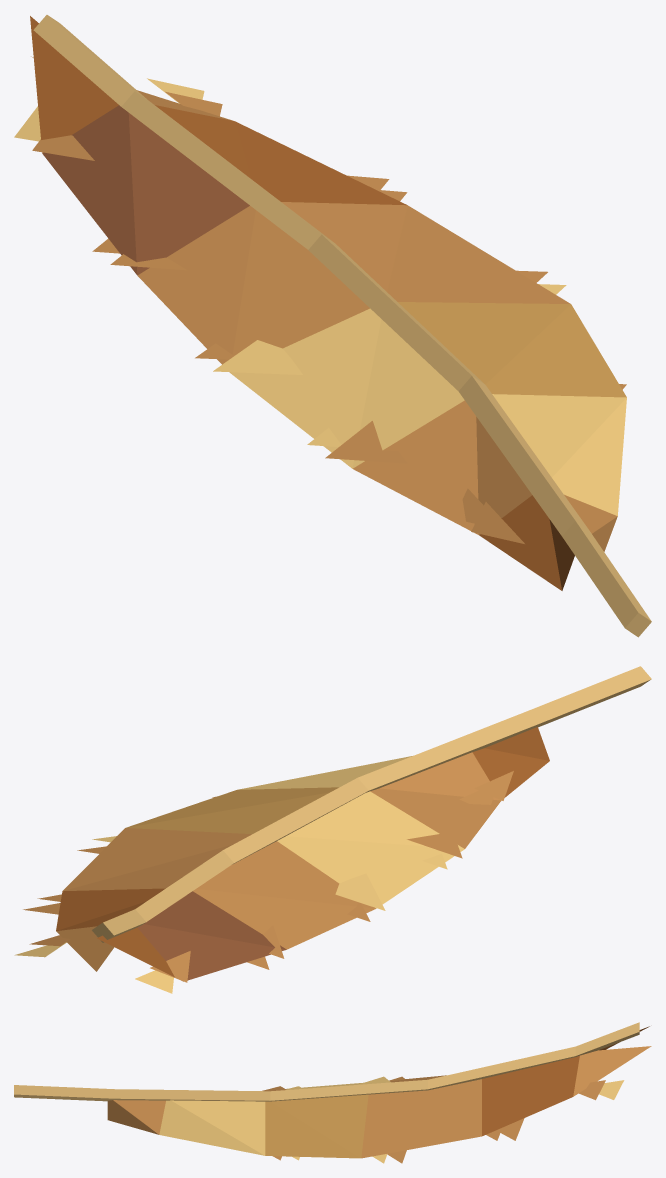
The model's file is Feather.glb.
The picture shows the model from 3 angles, top to bottom: view 1: azimuth 30°, elevation 25°; view 2: azimuth 150°, elevation 25°; view 3: azimuth 270°, elevation 25°; orthographic projection. The views are drawn at different scales.
Parts seen in each view (by area): view 1: Ochre feather with pale quill; view 2: Ochre feather with pale quill; view 3: Ochre feather with pale quill.
Part boxes in pixels (bbox=[...]): Ochre feather with pale quill: bbox=[14, 15, 651, 637]; Ochre feather with pale quill: bbox=[14, 666, 651, 993]; Ochre feather with pale quill: bbox=[14, 1022, 651, 1163].
Size of the model in its own units: 0.4191 by 0.213 by 1.3.
Materials: 1 (1 with a texture image).
